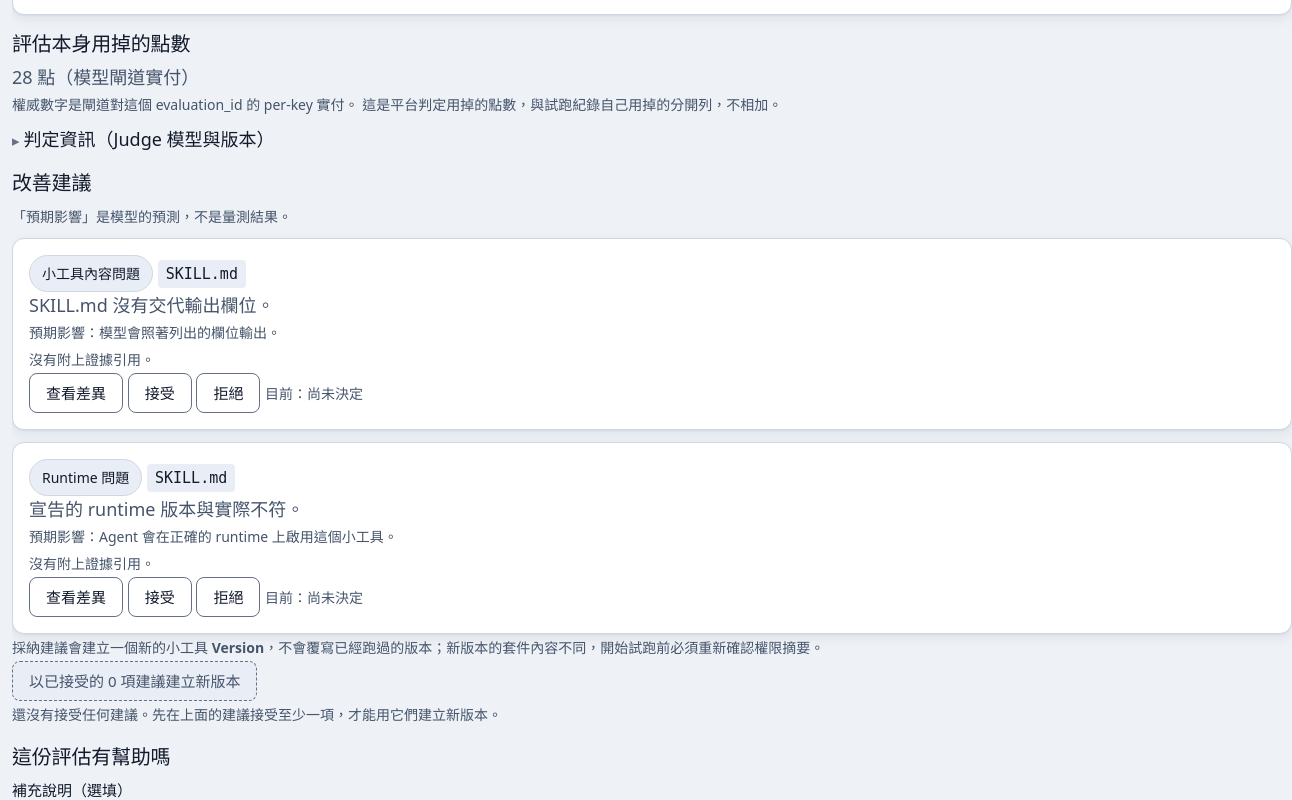
a suggestion decision names the pending action before the server answers
The image size is (1292, 800).
(page scrolled)
Click the button "接受" below "小工具內容問題" at (160, 393), box [128,373,192,413]
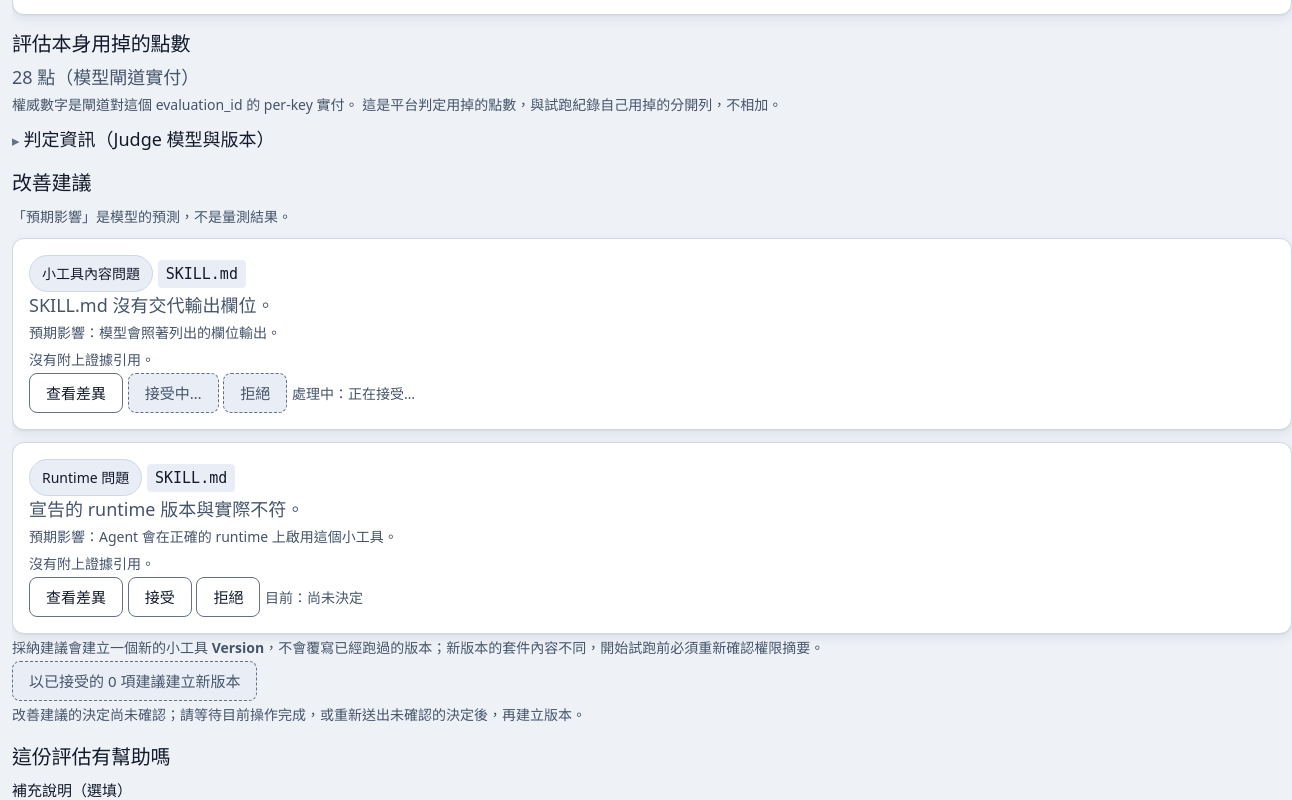
Now the button "接受中…" is shown, box [128,373,219,413]
Now the button "接受中…" is disabled, box [128,373,219,413]
Now the message "處理中：正在接受…" is shown, box [292,384,415,403]
